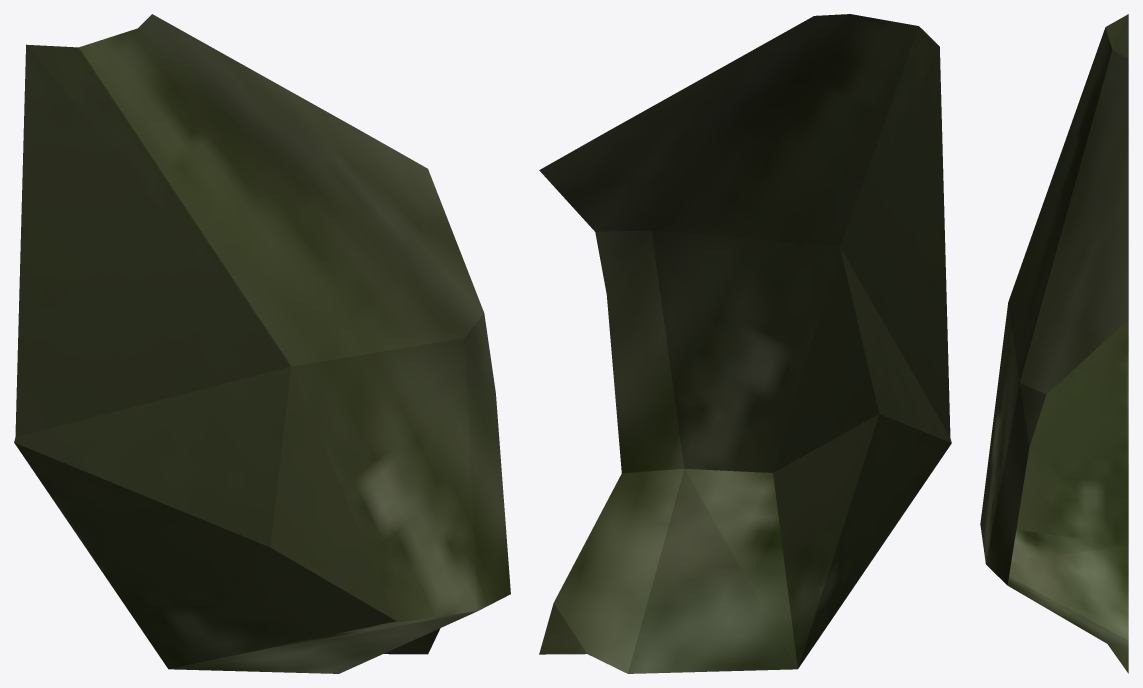
The picture shows the model from 3 angles, left to right: view 1: azimuth 30°, elevation 25°; view 2: azimuth 150°, elevation 25°; view 3: azimuth 270°, elevation 25°; orthographic projection. The views are drawn at different scales.
Bounding box in the file's own units: 0.3358 × 0.5486 × 0.1427.
Materials: 1 (1 with a texture image).
